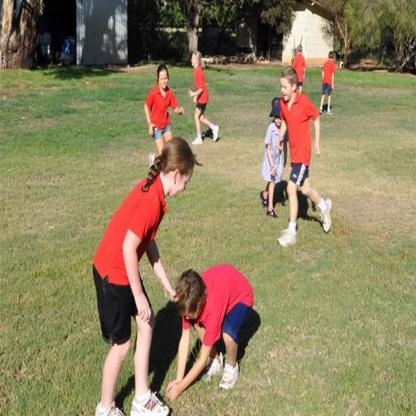face: (170, 175, 191, 197), (281, 80, 293, 101), (185, 306, 201, 320), (160, 74, 169, 90), (276, 112, 284, 126), (192, 55, 197, 66)
